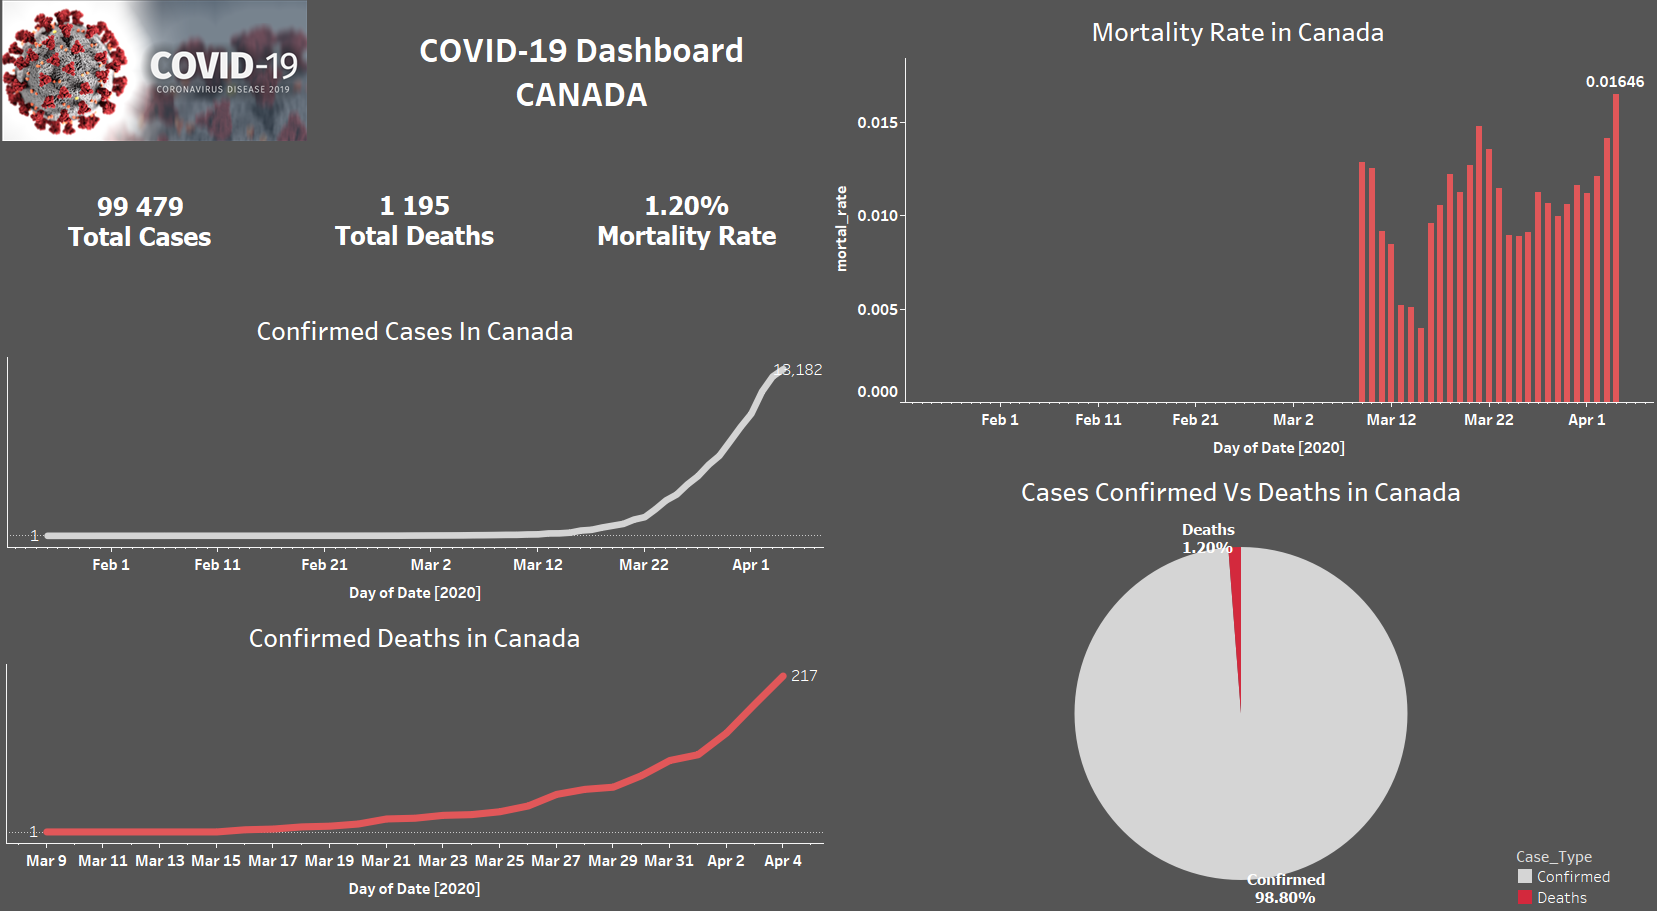

The page's visual inventory and layout, read from the dashboard file:
{"tool":"tableau","page":{"name":"Dashboard 1","canvas":[1000,1000],"units":"permille","ordinal":0},"visuals":[{"type":"image","param":"C:/Users/DELL/Pictures/Images/COVID-19.png","box":[1.2,0,185.9,154.8]},{"type":"text","box":[196.7,2.2,308.4,151.5]},{"type":"worksheet","title":"Mortal per_day","mark":"Bar","rows":["Calculation_819655179056459777"],"cols":["Date"],"box":[496.7,8.8,500.9,501.7]},{"type":"worksheet","title":"deaths Cases","mark":"Automatic","box":[167.2,159.2,166,168]},{"type":"worksheet","title":"mortal rate","mark":"Automatic","box":[336.2,159.2,157.5,166.8]},{"type":"worksheet","title":"confirmed cases","mark":"Automatic","box":[3.6,161.4,162.3,164.7]},{"type":"worksheet","title":"cases per_day","mark":"Automatic","rows":["Cases"],"cols":["Date"],"box":[4.2,337,492.5,332.6]},{"type":"worksheet","title":"confirmed/deaths","mark":"Pie","box":[499.1,513.7,499.7,484.1]},{"type":"worksheet","title":"deaths per_day","mark":"Automatic","rows":["Cases"],"cols":["Date"],"box":[3.6,674,493.1,320.5]},{"type":"legend","title":"confirmed/deaths","param":"[federated.0656ek902961xi1axi58m0ed5eb0].[none:Case_Type:nk]","box":[914.3,926.5,84.5,70.2]}]}

Visuals, with their boxes on the dashboard's canvas, which has no fixed pixel size, in thousandths of its width and height (x1, y1, x2, y2). These are canvas units, not pixel positions in the 1657x911 screenshot, which may show the page scaled, cropped or inside an application window:
image: bbox=(1, 0, 187, 155)
text: bbox=(197, 2, 505, 154)
"Mortal per_day" worksheet (Bar marks): bbox=(497, 9, 998, 510)
"deaths Cases" worksheet: bbox=(167, 159, 333, 327)
"mortal rate" worksheet: bbox=(336, 159, 494, 326)
"confirmed cases" worksheet: bbox=(4, 161, 166, 326)
"cases per_day" worksheet: bbox=(4, 337, 497, 670)
"confirmed/deaths" worksheet (Pie marks): bbox=(499, 514, 999, 998)
"deaths per_day" worksheet: bbox=(4, 674, 497, 994)
"confirmed/deaths" legend: bbox=(914, 926, 999, 997)
